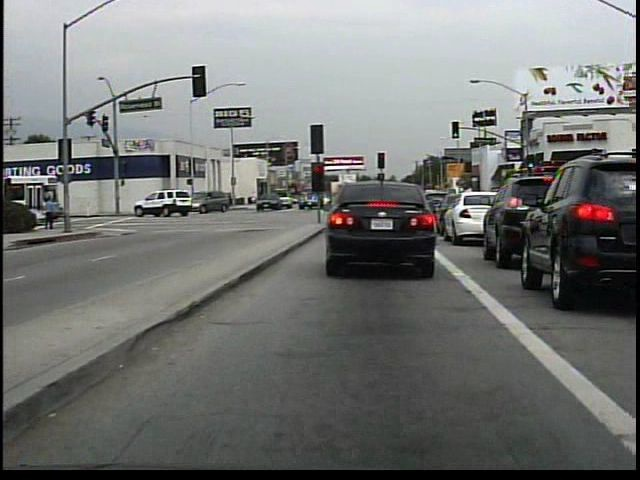person: (44, 193, 64, 233), (253, 187, 259, 208)
